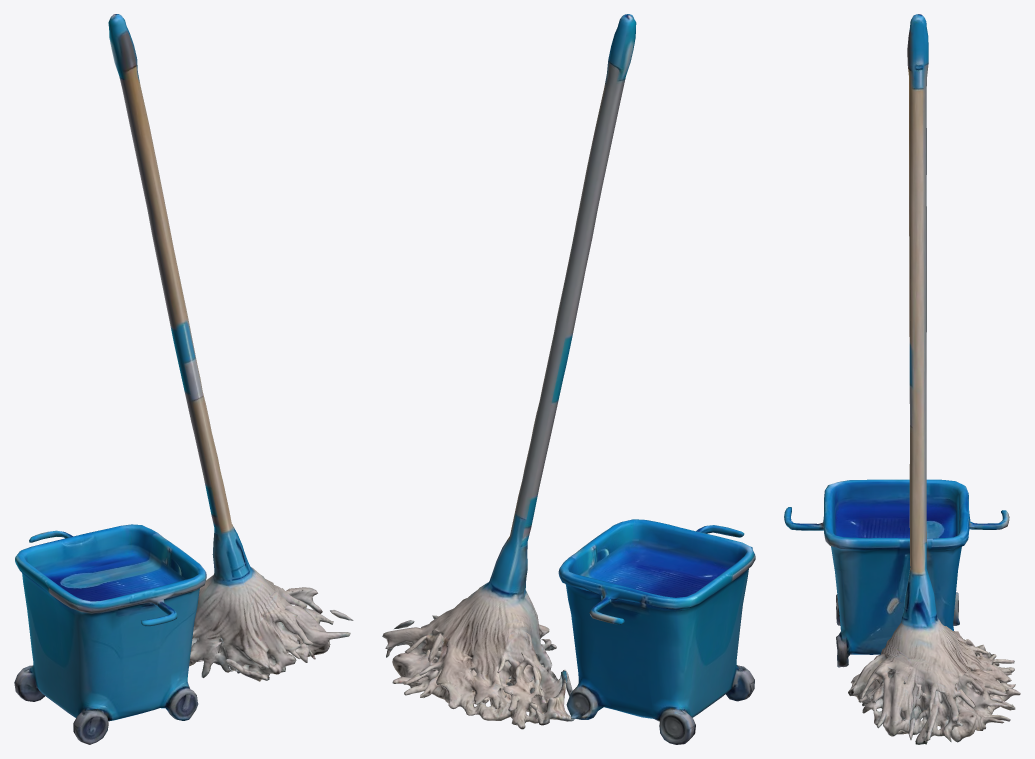
The picture shows the model from 3 angles, left to right: view 1: azimuth 30°, elevation 25°; view 2: azimuth 150°, elevation 25°; view 3: azimuth 270°, elevation 25°; orthographic projection. The views are drawn at different scales.
Bounding box in the file's own units: 0.9698 × 1.99 × 0.6669.
Materials: 1 (1 with a texture image).
